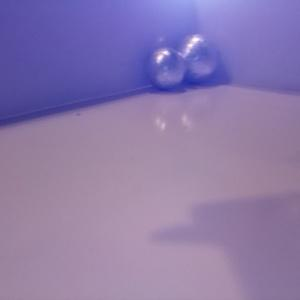alive_ball: (176, 32, 220, 83), (145, 46, 185, 90)
